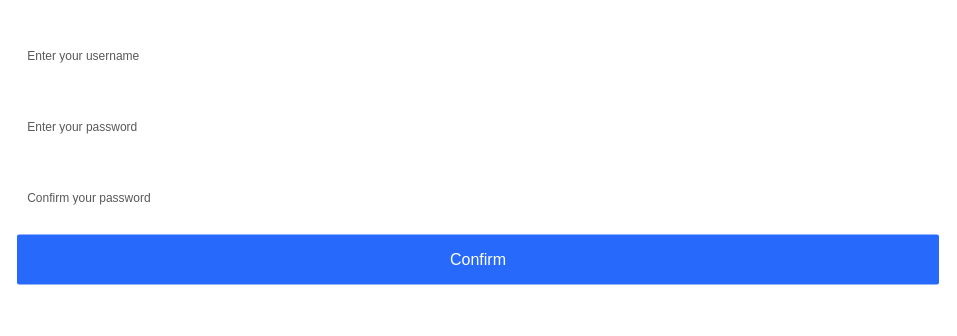
resetpw › invalid new password
The width and height of the screenshot is (957, 336).
In the password field named "newpassword": x=478, y=126 [17,106,939,146], type "hihih"
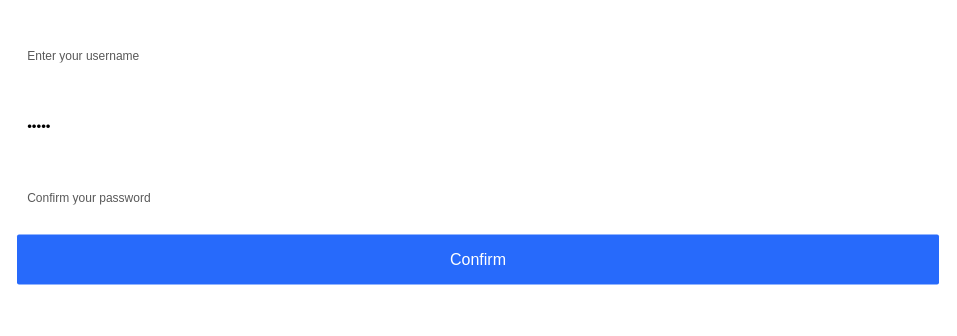
Click the button "Confirm": x=478, y=260 [17,234,939,284]
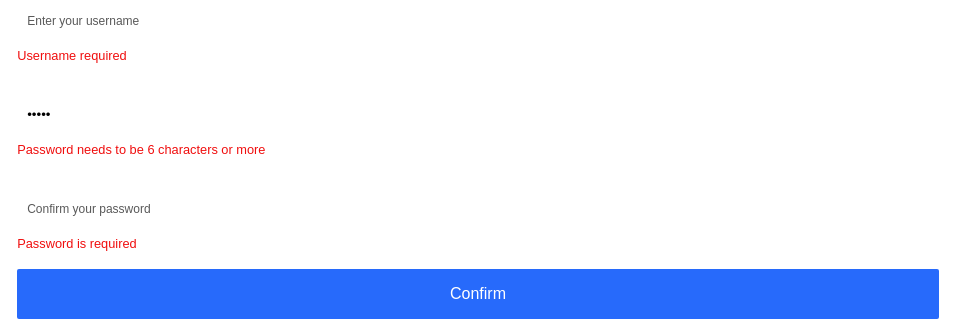
Expected: the text named "invalid-new-password" reads "Password needs to be 6 characters or more", [17,142,266,157]
